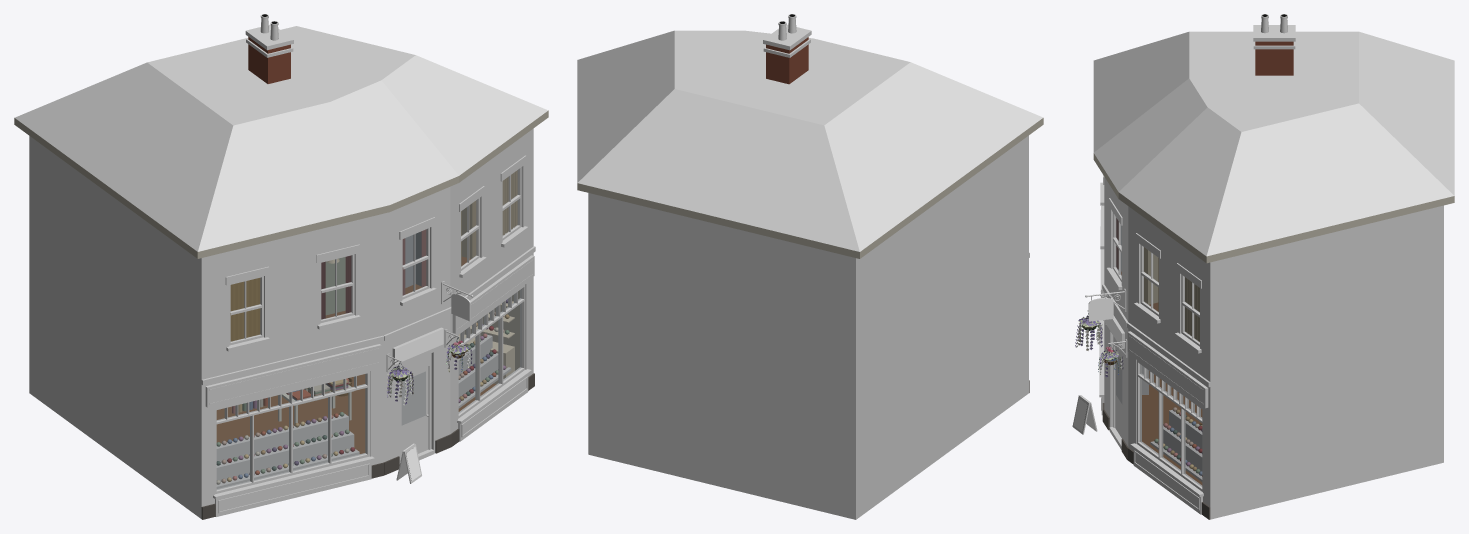
The model's file is GateStreet_Corner.glb.
3 views of the same model, side by side, from view 1: azimuth 30°, elevation 25°; view 2: azimuth 150°, elevation 25°; view 3: azimuth 270°, elevation 25° (orthographic).
Parts seen in each view (by area): view 1: GateStreet_Corner; view 2: GateStreet_Corner; view 3: GateStreet_Corner.
Boxes of the visible parts, x1,y1,x2,y2 form: GateStreet_Corner: (14,14,548,519); GateStreet_Corner: (577,14,1043,519); GateStreet_Corner: (1072,14,1454,519).
Size of what is drawn, in the model's own units: 10.92 by 10.21 by 9.
